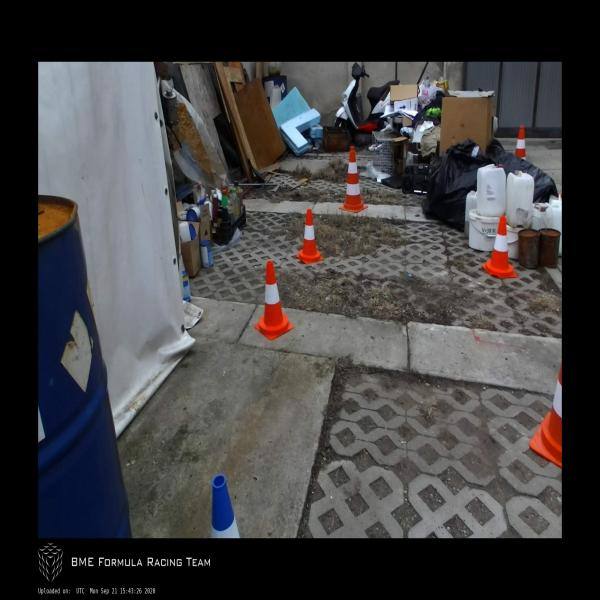large_orange_cone: (338, 147, 368, 212), (515, 125, 526, 161)
orange_cone: (254, 261, 294, 340), (481, 216, 518, 278), (296, 209, 325, 264)
